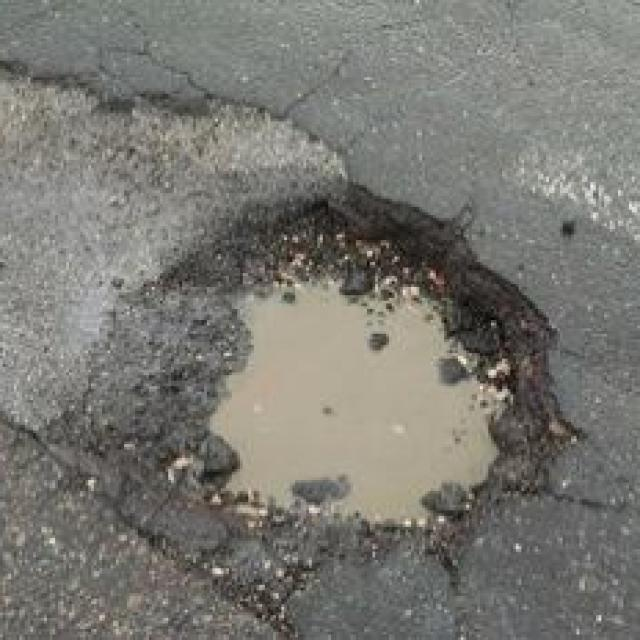pothole: (130, 182, 593, 604)
